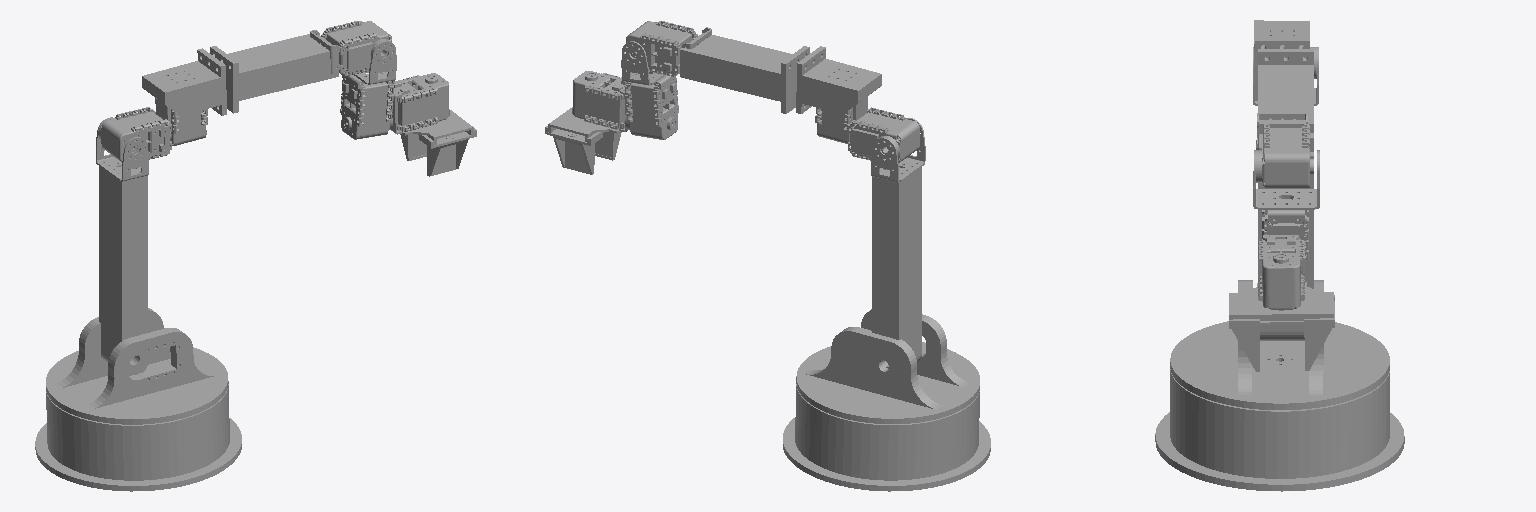
--- Facts derived from the render (not from the file) ---
Views: 3 orthographic renders of the robot side by side, from view 1: azimuth 30°, elevation 25°; view 2: azimuth 150°, elevation 25°; view 3: azimuth 270°, elevation 25°.
Robot: mvp_arm_6dof_v2 — 25 links, 24 joints (7 continuous, 2 prismatic, 15 fixed); root link base_link; default pose: every joint at zero.
Visible links, largest first — view 1: base_link, Shoulder_Joint_1, Arm_Link_1, Forearm_1, Forearm_Joint_1, Servo__2__1, Servo__1__1, Servo__5__1, Servo__3__1, Elbow_Hinge__1__2, Right_Gripper_Finger_1, Servo__4__1 (+2 smaller); view 2: Shoulder_Joint_1, base_link, Arm_Link_1, Forearm_1, Forearm_Joint_1, Servo__2__1, Servo__1__1, Servo__5__1, Servo__3__1, Elbow_Hinge__1__2, Left_Gripper_Finger_1, Servo__4__1 (+3 smaller); view 3: base_link, Shoulder_Joint_1, Forearm_1, Servo__1__1, Servo__3__1, Gripper_Slider_1, Forearm_Joint_1, Wrist_Hinge_1, Arm_Link_1, Left_Gripper_Finger_1, Right_Gripper_Finger_1, Servo__2__1.
Boxes of the visible links, x1,y1,x2,y2 form: base_link: [35, 384, 241, 491]; Shoulder_Joint_1: [46, 308, 228, 424]; Arm_Link_1: [99, 166, 147, 375]; Forearm_1: [210, 34, 338, 113]; Forearm_Joint_1: [142, 48, 226, 115]; Servo__2__1: [340, 80, 393, 139]; Servo__1__1: [394, 73, 449, 131]; Servo__5__1: [101, 107, 171, 161]; Servo__3__1: [321, 21, 391, 76]; Elbow_Hinge__1__2: [96, 117, 148, 181]; Right_Gripper_Finger_1: [419, 128, 476, 176]; Servo__4__1: [155, 98, 207, 145]; Shoulder_Joint_1: [796, 309, 979, 423]; base_link: [783, 384, 990, 491]; Arm_Link_1: [872, 167, 921, 368]; Forearm_1: [680, 33, 809, 113]; Forearm_Joint_1: [796, 46, 881, 113]; Servo__2__1: [624, 74, 678, 139]; Servo__1__1: [572, 71, 625, 129]; Servo__5__1: [848, 107, 919, 162]; Servo__3__1: [626, 21, 697, 76]; Elbow_Hinge__1__2: [871, 118, 925, 182]; Left_Gripper_Finger_1: [545, 126, 602, 174]; Servo__4__1: [815, 96, 867, 143]; base_link: [1155, 369, 1404, 491]; Shoulder_Joint_1: [1170, 280, 1389, 409]; Forearm_1: [1258, 49, 1313, 151]; Servo__1__1: [1258, 237, 1304, 309]; Servo__3__1: [1258, 124, 1313, 187]; Gripper_Slider_1: [1229, 282, 1333, 324]; Forearm_Joint_1: [1254, 20, 1309, 100]; Wrist_Hinge_1: [1253, 150, 1319, 209]; Arm_Link_1: [1258, 174, 1313, 340]; Left_Gripper_Finger_1: [1304, 295, 1334, 370]; Right_Gripper_Finger_1: [1229, 319, 1259, 371]; Servo__2__1: [1262, 199, 1308, 274].
Size in the robot's own frame: 0.3853 by 0.1699 by 0.3379 metres.
25 mesh visuals loaded from 25 distinct referenced files (25 binary STL).

URDF robot description (mvp_arm_6dof_v2):
<?xml version="1.0" encoding="utf-8"?>
<!-- =================================================================================== -->
<!-- |    This document was autogenerated by xacro from mvp_arm_6dof_v2.xacro          | -->
<!-- |    EDITING THIS FILE BY HAND IS NOT RECOMMENDED                                 | -->
<!-- =================================================================================== -->
<robot name="mvp_arm_6dof_v2">
  <material name="silver">
    <color rgba="0.700 0.700 0.700 1.000"/>
  </material>
  <transmission name="Rev7_tran">
    <type>transmission_interface/SimpleTransmission</type>
    <joint name="Rev7">
      <hardwareInterface>hardware_interface/EffortJointInterface</hardwareInterface>
    </joint>
    <actuator name="Rev7_actr">
      <hardwareInterface>hardware_interface/EffortJointInterface</hardwareInterface>
      <mechanicalReduction>1</mechanicalReduction>
    </actuator>
  </transmission>
  <transmission name="Rev6_tran">
    <type>transmission_interface/SimpleTransmission</type>
    <joint name="Rev6">
      <hardwareInterface>hardware_interface/EffortJointInterface</hardwareInterface>
    </joint>
    <actuator name="Rev6_actr">
      <hardwareInterface>hardware_interface/EffortJointInterface</hardwareInterface>
      <mechanicalReduction>1</mechanicalReduction>
    </actuator>
  </transmission>
  <transmission name="Rev5_tran">
    <type>transmission_interface/SimpleTransmission</type>
    <joint name="Rev5">
      <hardwareInterface>hardware_interface/EffortJointInterface</hardwareInterface>
    </joint>
    <actuator name="Rev5_actr">
      <hardwareInterface>hardware_interface/EffortJointInterface</hardwareInterface>
      <mechanicalReduction>1</mechanicalReduction>
    </actuator>
  </transmission>
  <transmission name="Rev4_tran">
    <type>transmission_interface/SimpleTransmission</type>
    <joint name="Rev4">
      <hardwareInterface>hardware_interface/EffortJointInterface</hardwareInterface>
    </joint>
    <actuator name="Rev4_actr">
      <hardwareInterface>hardware_interface/EffortJointInterface</hardwareInterface>
      <mechanicalReduction>1</mechanicalReduction>
    </actuator>
  </transmission>
  <transmission name="Rev3_tran">
    <type>transmission_interface/SimpleTransmission</type>
    <joint name="Rev3">
      <hardwareInterface>hardware_interface/EffortJointInterface</hardwareInterface>
    </joint>
    <actuator name="Rev3_actr">
      <hardwareInterface>hardware_interface/EffortJointInterface</hardwareInterface>
      <mechanicalReduction>1</mechanicalReduction>
    </actuator>
  </transmission>
  <transmission name="Rev2_tran">
    <type>transmission_interface/SimpleTransmission</type>
    <joint name="Rev2">
      <hardwareInterface>hardware_interface/EffortJointInterface</hardwareInterface>
    </joint>
    <actuator name="Rev2_actr">
      <hardwareInterface>hardware_interface/EffortJointInterface</hardwareInterface>
      <mechanicalReduction>1</mechanicalReduction>
    </actuator>
  </transmission>
  <transmission name="Rev1_tran">
    <type>transmission_interface/SimpleTransmission</type>
    <joint name="Rev1">
      <hardwareInterface>hardware_interface/EffortJointInterface</hardwareInterface>
    </joint>
    <actuator name="Rev1_actr">
      <hardwareInterface>hardware_interface/EffortJointInterface</hardwareInterface>
      <mechanicalReduction>1</mechanicalReduction>
    </actuator>
  </transmission>
  <transmission name="Rev8_tran">
    <type>transmission_interface/SimpleTransmission</type>
    <joint name="Rev8">
      <hardwareInterface>hardware_interface/EffortJointInterface</hardwareInterface>
    </joint>
    <actuator name="Rev8_actr">
      <hardwareInterface>hardware_interface/EffortJointInterface</hardwareInterface>
      <mechanicalReduction>1</mechanicalReduction>
    </actuator>
  </transmission>
  <transmission name="Rev9_tran">
    <type>transmission_interface/SimpleTransmission</type>
    <joint name="Rev9">
      <hardwareInterface>hardware_interface/EffortJointInterface</hardwareInterface>
    </joint>
    <actuator name="Rev9_actr">
      <hardwareInterface>hardware_interface/EffortJointInterface</hardwareInterface>
      <mechanicalReduction>1</mechanicalReduction>
    </actuator>
  </transmission>
  <transmission name="Rev10_tran">
    <type>transmission_interface/SimpleTransmission</type>
    <joint name="Rev10">
      <hardwareInterface>hardware_interface/EffortJointInterface</hardwareInterface>
    </joint>
    <actuator name="Rev10_actr">
      <hardwareInterface>hardware_interface/EffortJointInterface</hardwareInterface>
      <mechanicalReduction>1</mechanicalReduction>
    </actuator>
  </transmission>
  <transmission name="Slider1_tran">
    <type>transmission_interface/SimpleTransmission</type>
    <joint name="Slider1">
      <hardwareInterface>hardware_interface/EffortJointInterface</hardwareInterface>
    </joint>
    <actuator name="Slider1_actr">
      <hardwareInterface>hardware_interface/EffortJointInterface</hardwareInterface>
      <mechanicalReduction>1</mechanicalReduction>
    </actuator>
  </transmission>
  <transmission name="Slider2_tran">
    <type>transmission_interface/SimpleTransmission</type>
    <joint name="Slider2">
      <hardwareInterface>hardware_interface/EffortJointInterface</hardwareInterface>
    </joint>
    <actuator name="Slider2_actr">
      <hardwareInterface>hardware_interface/EffortJointInterface</hardwareInterface>
      <mechanicalReduction>1</mechanicalReduction>
    </actuator>
  </transmission>
  <transmission name="Rev11_tran">
    <type>transmission_interface/SimpleTransmission</type>
    <joint name="Rev11">
      <hardwareInterface>hardware_interface/EffortJointInterface</hardwareInterface>
    </joint>
    <actuator name="Rev11_actr">
      <hardwareInterface>hardware_interface/EffortJointInterface</hardwareInterface>
      <mechanicalReduction>1</mechanicalReduction>
    </actuator>
  </transmission>
  <gazebo>
    <plugin filename="libgazebo_ros_control.so" name="control"/>
  </gazebo>
  <gazebo reference="base_link">
    <material>Gazebo/Silver</material>
    <mu1>0.2</mu1>
    <mu2>0.2</mu2>
    <selfCollide>true</selfCollide>
    <gravity>true</gravity>
  </gazebo>
  <gazebo reference="Servo_Rotator__1__1">
    <material>Gazebo/Silver</material>
    <mu1>0.2</mu1>
    <mu2>0.2</mu2>
    <selfCollide>true</selfCollide>
  </gazebo>
  <gazebo reference="Servo_Rotator__2__1">
    <material>Gazebo/Silver</material>
    <mu1>0.2</mu1>
    <mu2>0.2</mu2>
    <selfCollide>true</selfCollide>
  </gazebo>
  <gazebo reference="Servo__3__1">
    <material>Gazebo/Silver</material>
    <mu1>0.2</mu1>
    <mu2>0.2</mu2>
    <selfCollide>true</selfCollide>
  </gazebo>
  <gazebo reference="Servo__2__1">
    <material>Gazebo/Silver</material>
    <mu1>0.2</mu1>
    <mu2>0.2</mu2>
    <selfCollide>true</selfCollide>
  </gazebo>
  <gazebo reference="Servo_Rotator__3__1">
    <material>Gazebo/Silver</material>
    <mu1>0.2</mu1>
    <mu2>0.2</mu2>
    <selfCollide>true</selfCollide>
  </gazebo>
  <gazebo reference="Servo__4__1">
    <material>Gazebo/Silver</material>
    <mu1>0.2</mu1>
    <mu2>0.2</mu2>
    <selfCollide>true</selfCollide>
  </gazebo>
  <gazebo reference="Bracket__3__1">
    <material>Gazebo/Silver</material>
    <mu1>0.2</mu1>
    <mu2>0.2</mu2>
    <selfCollide>true</selfCollide>
  </gazebo>
  <gazebo reference="Servo_Rotator__4__1">
    <material>Gazebo/Silver</material>
    <mu1>0.2</mu1>
    <mu2>0.2</mu2>
    <selfCollide>true</selfCollide>
  </gazebo>
  <gazebo reference="Servo__5__1">
    <material>Gazebo/Silver</material>
    <mu1>0.2</mu1>
    <mu2>0.2</mu2>
    <selfCollide>true</selfCollide>
  </gazebo>
  <gazebo reference="Bracket__5__1">
    <material>Gazebo/Silver</material>
    <mu1>0.2</mu1>
    <mu2>0.2</mu2>
    <selfCollide>true</selfCollide>
  </gazebo>
  <gazebo reference="Forearm_1">
    <material>Gazebo/Silver</material>
    <mu1>0.2</mu1>
    <mu2>0.2</mu2>
    <selfCollide>true</selfCollide>
  </gazebo>
  <gazebo reference="Forearm_Joint_1">
    <material>Gazebo/Silver</material>
    <mu1>0.2</mu1>
    <mu2>0.2</mu2>
    <selfCollide>true</selfCollide>
  </gazebo>
  <gazebo reference="Servo_Rotator__5__1">
    <material>Gazebo/Silver</material>
    <mu1>0.2</mu1>
    <mu2>0.2</mu2>
    <selfCollide>true</selfCollide>
  </gazebo>
  <gazebo reference="Elbow_Hinge__1__2">
    <material>Gazebo/Silver</material>
    <mu1>0.2</mu1>
    <mu2>0.2</mu2>
    <selfCollide>true</selfCollide>
  </gazebo>
  <gazebo reference="Arm_Link_1">
    <material>Gazebo/Silver</material>
    <mu1>0.2</mu1>
    <mu2>0.2</mu2>
    <selfCollide>true</selfCollide>
  </gazebo>
  <gazebo reference="Shoulder_Joint_1">
    <material>Gazebo/Silver</material>
    <mu1>0.2</mu1>
    <mu2>0.2</mu2>
    <selfCollide>true</selfCollide>
  </gazebo>
  <gazebo reference="Wrist_Hinge_1">
    <material>Gazebo/Silver</material>
    <mu1>0.2</mu1>
    <mu2>0.2</mu2>
    <selfCollide>true</selfCollide>
  </gazebo>
  <gazebo reference="Bracket__1__1">
    <material>Gazebo/Silver</material>
    <mu1>0.2</mu1>
    <mu2>0.2</mu2>
    <selfCollide>true</selfCollide>
  </gazebo>
  <gazebo reference="Servo__1__1">
    <material>Gazebo/Silver</material>
    <mu1>0.2</mu1>
    <mu2>0.2</mu2>
    <selfCollide>true</selfCollide>
  </gazebo>
  <gazebo reference="Bracket__4__1">
    <material>Gazebo/Silver</material>
    <mu1>0.2</mu1>
    <mu2>0.2</mu2>
    <selfCollide>true</selfCollide>
  </gazebo>
  <gazebo reference="Bracket__2__1">
    <material>Gazebo/Silver</material>
    <mu1>0.2</mu1>
    <mu2>0.2</mu2>
    <selfCollide>true</selfCollide>
  </gazebo>
  <gazebo reference="Gripper_Slider_1">
    <material>Gazebo/Silver</material>
    <mu1>0.2</mu1>
    <mu2>0.2</mu2>
    <selfCollide>true</selfCollide>
  </gazebo>
  <gazebo reference="Left_Servo_Finger_Connector_1">
    <material>Gazebo/Silver</material>
    <mu1>0.2</mu1>
    <mu2>0.2</mu2>
    <selfCollide>true</selfCollide>
  </gazebo>
  <gazebo reference="Right_Servo_Finger_Connector_1">
    <material>Gazebo/Silver</material>
    <mu1>0.2</mu1>
    <mu2>0.2</mu2>
    <selfCollide>true</selfCollide>
  </gazebo>
  <gazebo reference="Right_Gripper_Finger_1">
    <material>Gazebo/Silver</material>
    <mu1>0.2</mu1>
    <mu2>0.2</mu2>
    <selfCollide>true</selfCollide>
  </gazebo>
  <gazebo reference="Right_Gripper_Finger_1">
    <material>Gazebo/Silver</material>
    <mu1>0.2</mu1>
    <mu2>0.2</mu2>
    <selfCollide>true</selfCollide>
  </gazebo>
  <gazebo reference="Left_Gripper_Finger_1">
    <material>Gazebo/Silver</material>
    <mu1>0.2</mu1>
    <mu2>0.2</mu2>
    <selfCollide>true</selfCollide>
  </gazebo>
  <gazebo reference="Left_Gripper_Finger_1">
    <material>Gazebo/Silver</material>
    <mu1>0.2</mu1>
    <mu2>0.2</mu2>
    <selfCollide>true</selfCollide>
  </gazebo>
  <link name="base_link">
    <inertial>
      <origin rpy="0 0 0" xyz="-0.0002685563857322659 -0.004117383840236073 0.09720599739360383"/>
      <mass value="0.2255222028913783"/>
      <inertia ixx="0.000625" ixy="-0.0" ixz="-1.3e-05" iyy="0.000615" iyz="0.0" izz="0.001121"/>
    </inertial>
    <visual>
      <origin rpy="0 0 0" xyz="0 0 0"/>
      <geometry>
        <mesh filename="package://mvp_arm_6dof_v2_description/meshes/base_link.stl" scale="0.001 0.001 0.001"/>
      </geometry>
      <material name="silver"/>
    </visual>
    <collision>
      <origin rpy="0 0 0" xyz="0 0 0"/>
      <geometry>
        <mesh filename="package://mvp_arm_6dof_v2_description/meshes/base_link.stl" scale="0.001 0.001 0.001"/>
      </geometry>
    </collision>
  </link>
  <link name="Servo_Rotator__1__1">
    <inertial>
      <origin rpy="0 0 0" xyz="4.696790787805938e-05 2.736599626973436e-05 -0.0022484802383110902"/>
      <mass value="0.012286224598738087"/>
      <inertia ixx="0.0" ixy="0.0" ixz="-0.0" iyy="0.0" iyz="-0.0" izz="1e-06"/>
    </inertial>
    <visual>
      <origin rpy="0 0 0" xyz="-0.278678 0.002272 -0.30869"/>
      <geometry>
        <mesh filename="package://mvp_arm_6dof_v2_description/meshes/Servo_Rotator__1__1.stl" scale="0.001 0.001 0.001"/>
      </geometry>
      <material name="silver"/>
    </visual>
    <collision>
      <origin rpy="0 0 0" xyz="-0.278678 0.002272 -0.30869"/>
      <geometry>
        <mesh filename="package://mvp_arm_6dof_v2_description/meshes/Servo_Rotator__1__1.stl" scale="0.001 0.001 0.001"/>
      </geometry>
    </collision>
  </link>
  <link name="Servo_Rotator__2__1">
    <inertial>
      <origin rpy="0 0 0" xyz="3.197445282709932e-07 -0.002249396881839328 1.0236701699029016e-05"/>
      <mass value="0.012286224598738087"/>
      <inertia ixx="0.0" ixy="-0.0" ixz="0.0" iyy="1e-06" iyz="-0.0" izz="0.0"/>
    </inertial>
    <visual>
      <origin rpy="0 0 0" xyz="-0.214785 0.018149 -0.391636"/>
      <geometry>
        <mesh filename="package://mvp_arm_6dof_v2_description/meshes/Servo_Rotator__2__1.stl" scale="0.001 0.001 0.001"/>
      </geometry>
      <material name="silver"/>
    </visual>
    <collision>
      <origin rpy="0 0 0" xyz="-0.214785 0.018149 -0.391636"/>
      <geometry>
        <mesh filename="package://mvp_arm_6dof_v2_description/meshes/Servo_Rotator__2__1.stl" scale="0.001 0.001 0.001"/>
      </geometry>
    </collision>
  </link>
  <link name="Servo__3__1">
    <inertial>
      <origin rpy="0 0 0" xyz="0.023084439447248556 0.01543302398482891 -0.007466520807867916"/>
      <mass value="0.32411536495008075"/>
      <inertia ixx="5e-05" ixy="-2e-06" ixz="-1e-06" iyy="7.9e-05" iyz="0.0" izz="9.1e-05"/>
    </inertial>
    <visual>
      <origin rpy="0 0 0" xyz="-0.178587 0.017871 -0.398684"/>
      <geometry>
        <mesh filename="package://mvp_arm_6dof_v2_description/meshes/Servo__3__1.stl" scale="0.001 0.001 0.001"/>
      </geometry>
      <material name="silver"/>
    </visual>
    <collision>
      <origin rpy="0 0 0" xyz="-0.178587 0.017871 -0.398684"/>
      <geometry>
        <mesh filename="package://mvp_arm_6dof_v2_description/meshes/Servo__3__1.stl" scale="0.001 0.001 0.001"/>
      </geometry>
    </collision>
  </link>
  <link name="Servo__2__1">
    <inertial>
      <origin rpy="0 0 0" xyz="-0.01645020938837613 -0.008616049568100454 -0.0196927644624752"/>
      <mass value="0.32411536495008075"/>
      <inertia ixx="7.9e-05" ixy="0.0" ixz="-1e-06" iyy="9.1e-05" iyz="-0.0" izz="5e-05"/>
    </inertial>
    <visual>
      <origin rpy="0 0 0" xyz="-0.232814 -0.00619 -0.356393"/>
      <geometry>
        <mesh filename="package://mvp_arm_6dof_v2_description/meshes/Servo__2__1.stl" scale="0.001 0.001 0.001"/>
      </geometry>
      <material name="silver"/>
    </visual>
    <collision>
      <origin rpy="0 0 0" xyz="-0.232814 -0.00619 -0.356393"/>
      <geometry>
        <mesh filename="package://mvp_arm_6dof_v2_description/meshes/Servo__2__1.stl" scale="0.001 0.001 0.001"/>
      </geometry>
    </collision>
  </link>
  <link name="Servo_Rotator__3__1">
    <inertial>
      <origin rpy="0 0 0" xyz="0.002249048184267688 1.7890290807034276e-07 4.676532271863376e-05"/>
      <mass value="0.012286224598738087"/>
      <inertia ixx="1e-06" ixy="0.0" ixz="0.0" iyy="0.0" iyz="0.0" izz="0.0"/>
    </inertial>
    <visual>
      <origin rpy="0 0 0" xyz="-0.232349 0.002482 -0.323916"/>
      <geometry>
        <mesh filename="package://mvp_arm_6dof_v2_description/meshes/Servo_Rotator__3__1.stl" scale="0.001 0.001 0.001"/>
      </geometry>
      <material name="silver"/>
    </visual>
    <collision>
      <origin rpy="0 0 0" xyz="-0.232349 0.002482 -0.323916"/>
      <geometry>
        <mesh filename="package://mvp_arm_6dof_v2_description/meshes/Servo_Rotator__3__1.stl" scale="0.001 0.001 0.001"/>
      </geometry>
    </collision>
  </link>
  <link name="Servo__4__1">
    <inertial>
      <origin rpy="0 0 0" xyz="0.015363533740432825 3.599470012234868e-05 0.01352566905944469"/>
      <mass value="0.32411536495008075"/>
      <inertia ixx="7.9e-05" ixy="0.0" ixz="2e-06" iyy="9.1e-05" iyz="-0.0" izz="5e-05"/>
    </inertial>
    <visual>
      <origin rpy="0 0 0" xyz="-0.025942 0.002022 -0.354577"/>
      <geometry>
        <mesh filename="package://mvp_arm_6dof_v2_description/meshes/Servo__4__1.stl" scale="0.001 0.001 0.001"/>
      </geometry>
      <material name="silver"/>
    </visual>
    <collision>
      <origin rpy="0 0 0" xyz="-0.025942 0.002022 -0.354577"/>
      <geometry>
        <mesh filename="package://mvp_arm_6dof_v2_description/meshes/Servo__4__1.stl" scale="0.001 0.001 0.001"/>
      </geometry>
    </collision>
  </link>
  <link name="Bracket__3__1">
    <inertial>
      <origin rpy="0 0 0" xyz="0.01589864118251931 -0.007987181894295325 0.004097782701024066"/>
      <mass value="0.0016262220015435807"/>
      <inertia ixx="0.0" ixy="-0.0" ixz="-0.0" iyy="0.0" iyz="0.0" izz="0.0"/>
    </inertial>
    <visual>
      <origin rpy="0 0 0" xyz="-0.025243 -0.006064 -0.390552"/>
      <geometry>
        <mesh filename="package://mvp_arm_6dof_v2_description/meshes/Bracket__3__1.stl" scale="0.001 0.001 0.001"/>
      </geometry>
      <material name="silver"/>
    </visual>
    <collision>
      <origin rpy="0 0 0" xyz="-0.025243 -0.006064 -0.390552"/>
      <geometry>
        <mesh filename="package://mvp_arm_6dof_v2_description/meshes/Bracket__3__1.stl" scale="0.001 0.001 0.001"/>
      </geometry>
    </collision>
  </link>
  <link name="Servo_Rotator__4__1">
    <inertial>
      <origin rpy="0 0 0" xyz="0.0020392727454433754 1.9599116875569037e-05 0.008056069500829488"/>
      <mass value="0.012286224598738087"/>
      <inertia ixx="1e-06" ixy="0.0" ixz="0.0" iyy="0.0" iyz="0.0" izz="0.0"/>
    </inertial>
    <visual>
      <origin rpy="0 0 0" xyz="-0.021654 0.002042 -0.346462"/>
      <geometry>
        <mesh filename="package://mvp_arm_6dof_v2_description/meshes/Servo_Rotator__4__1.stl" scale="0.001 0.001 0.001"/>
      </geometry>
      <material name="silver"/>
    </visual>
    <collision>
      <origin rpy="0 0 0" xyz="-0.021654 0.002042 -0.346462"/>
      <geometry>
        <mesh filename="package://mvp_arm_6dof_v2_description/meshes/Servo_Rotator__4__1.stl" scale="0.001 0.001 0.001"/>
      </geometry>
    </collision>
  </link>
  <link name="Servo__5__1">
    <inertial>
      <origin rpy="0 0 0" xyz="0.013114397820069863 -0.015711494309324826 0.0003817734354029101"/>
      <mass value="0.32411536495008075"/>
      <inertia ixx="5e-05" ixy="-2e-06" ixz="-1e-06" iyy="7.9e-05" iyz="-0.0" izz="9.1e-05"/>
    </inertial>
    <visual>
      <origin rpy="0 0 0" xyz="0.020045 -0.01416 -0.353328"/>
      <geometry>
        <mesh filename="package://mvp_arm_6dof_v2_description/meshes/Servo__5__1.stl" scale="0.001 0.001 0.001"/>
      </geometry>
      <material name="silver"/>
    </visual>
    <collision>
      <origin rpy="0 0 0" xyz="0.020045 -0.01416 -0.353328"/>
      <geometry>
        <mesh filename="package://mvp_arm_6dof_v2_description/meshes/Servo__5__1.stl" scale="0.001 0.001 0.001"/>
      </geometry>
    </collision>
  </link>
  <link name="Bracket__5__1">
    <inertial>
      <origin rpy="0 0 0" xyz="0.00344356718978997 0.01601961665031654 0.008055349340560902"/>
      <mass value="0.0016262220015435807"/>
      <inertia ixx="0.0" ixy="0.0" ixz="0.0" iyy="0.0" iyz="0.0" izz="0.0"/>
    </inertial>
    <visual>
      <origin rpy="0 0 0" xyz="-0.016159 0.018043 -0.346355"/>
      <geometry>
        <mesh filename="package://mvp_arm_6dof_v2_description/meshes/Bracket__5__1.stl" scale="0.001 0.001 0.001"/>
      </geometry>
      <material name="silver"/>
    </visual>
    <collision>
      <origin rpy="0 0 0" xyz="-0.016159 0.018043 -0.346355"/>
      <geometry>
        <mesh filename="package://mvp_arm_6dof_v2_description/meshes/Bracket__5__1.stl" scale="0.001 0.001 0.001"/>
      </geometry>
    </collision>
  </link>
  <link name="Forearm_1">
    <inertial>
      <origin rpy="0 0 0" xyz="0.04811303961108866 1.1598853245149265e-05 0.0012336044389075207"/>
      <mass value="0.7719250888938243"/>
      <inertia ixx="0.000141" ixy="-0.0" ixz="-1.8e-05" iyy="0.000726" iyz="0.0" izz="0.000771"/>
    </inertial>
    <visual>
      <origin rpy="0 0 0" xyz="-0.073332 0.001934 -0.387836"/>
      <geometry>
        <mesh filename="package://mvp_arm_6dof_v2_description/meshes/Forearm_1.stl" scale="0.001 0.001 0.001"/>
      </geometry>
      <material name="silver"/>
    </visual>
    <collision>
      <origin rpy="0 0 0" xyz="-0.073332 0.001934 -0.387836"/>
      <geometry>
        <mesh filename="package://mvp_arm_6dof_v2_description/meshes/Forearm_1.stl" scale="0.001 0.001 0.001"/>
      </geometry>
    </collision>
  </link>
  <link name="Forearm_Joint_1">
    <inertial>
      <origin rpy="0 0 0" xyz="0.019749225031501748 -1.369065446798763e-05 -0.007300482312114054"/>
      <mass value="0.24639014270019174"/>
      <inertia ixx="6e-05" ixy="0.0" ixz="7e-06" iyy="9.9e-05" iyz="0.0" izz="0.000118"/>
    </inertial>
    <visual>
      <origin rpy="0 0 0" xyz="-0.033096 0.001921 -0.39628"/>
      <geometry>
        <mesh filename="package://mvp_arm_6dof_v2_description/meshes/Forearm_Joint_1.stl" scale="0.001 0.001 0.001"/>
      </geometry>
      <material name="silver"/>
    </visual>
    <collision>
      <origin rpy="0 0 0" xyz="-0.033096 0.001921 -0.39628"/>
      <geometry>
        <mesh filename="package://mvp_arm_6dof_v2_description/meshes/Forearm_Joint_1.stl" scale="0.001 0.001 0.001"/>
      </geometry>
    </collision>
  </link>
  <link name="Servo_Rotator__5__1">
    <inertial>
      <origin rpy="0 0 0" xyz="0.00799743271970977 -0.002248929390793089 0.00021621004086314066"/>
      <mass value="0.012286224598738087"/>
      <inertia ixx="0.0" ixy="-0.0" ixz="0.0" iyy="1e-06" iyz="-0.0" izz="0.0"/>
    </inertial>
    <visual>
      <origin rpy="0 0 0" xyz="0.028043 -0.018658 -0.353106"/>
      <geometry>
        <mesh filename="package://mvp_arm_6dof_v2_description/meshes/Servo_Rotator__5__1.stl" scale="0.001 0.001 0.001"/>
      </geometry>
      <material name="silver"/>
    </visual>
    <collision>
      <origin rpy="0 0 0" xyz="0.028043 -0.018658 -0.353106"/>
      <geometry>
        <mesh filename="package://mvp_arm_6dof_v2_description/meshes/Servo_Rotator__5__1.stl" scale="0.001 0.001 0.001"/>
      </geometry>
    </collision>
  </link>
  <link name="Elbow_Hinge__1__2">
    <inertial>
      <origin rpy="0 0 0" xyz="-0.013766752878679976 2.1515676582339795e-05 0.009886535758384607"/>
      <mass value="0.0037556666472927302"/>
      <inertia ixx="2e-06" ixy="0.0" ixz="0.0" iyy="1e-06" iyz="0.0" izz="1e-06"/>
    </inertial>
    <visual>
      <origin rpy="0 0 0" xyz="0.005849 0.0024 -0.327232"/>
      <geometry>
        <mesh filename="package://mvp_arm_6dof_v2_description/meshes/Elbow_Hinge__1__2.stl" scale="0.001 0.001 0.001"/>
      </geometry>
      <material name="silver"/>
    </visual>
    <collision>
      <origin rpy="0 0 0" xyz="0.005849 0.0024 -0.327232"/>
      <geometry>
        <mesh filename="package://mvp_arm_6dof_v2_description/meshes/Elbow_Hinge__1__2.stl" scale="0.001 0.001 0.001"/>
      </geometry>
    </collision>
  </link>
  <link name="Arm_Link_1">
    <inertial>
      <origin rpy="0 0 0" xyz="-0.002023573058774996 -0.01881587365277383 0.07708599083440679"/>
      <mass value="0.21427857804003209"/>
      <inertia ixx="0.00058" ixy="0.0" ixz="1.4e-05" iyy="0.000565" iyz="-1e-06" izz="3.7e-05"/>
    </inertial>
    <visual>
      <origin rpy="0 0 0" xyz="0.014005 -0.016203 -0.161915"/>
      <geometry>
        <mesh filename="package://mvp_arm_6dof_v2_description/meshes/Arm_Link_1.stl" scale="0.001 0.001 0.001"/>
      </geometry>
      <material name="silver"/>
    </visual>
    <collision>
      <origin rpy="0 0 0" xyz="0.014005 -0.016203 -0.161915"/>
      <geometry>
        <mesh filename="package://mvp_arm_6dof_v2_description/meshes/Arm_Link_1.stl" scale="0.001 0.001 0.001"/>
      </geometry>
    </collision>
  </link>
  <link name="Shoulder_Joint_1">
    <inertial>
      <origin rpy="0 0 0" xyz="-0.0002783520807599555 0.001716966723272633 0.013009417733686551"/>
      <mass value="0.1980303324276481"/>
      <inertia ixx="0.00026" ixy="-0.0" ixz="-5e-06" iyy="0.000259" iyz="-5e-06" izz="0.00042"/>
    </inertial>
    <visual>
      <origin rpy="0 0 0" xyz="0.001172 0.00337 -0.130745"/>
      <geometry>
        <mesh filename="package://mvp_arm_6dof_v2_description/meshes/Shoulder_Joint_1.stl" scale="0.001 0.001 0.001"/>
      </geometry>
      <material name="silver"/>
    </visual>
    <collision>
      <origin rpy="0 0 0" xyz="0.001172 0.00337 -0.130745"/>
      <geometry>
        <mesh filename="package://mvp_arm_6dof_v2_description/meshes/Shoulder_Joint_1.stl" scale="0.001 0.001 0.001"/>
      </geometry>
    </collision>
  </link>
  <link name="Wrist_Hinge_1">
    <inertial>
      <origin rpy="0 0 0" xyz="0.0001687834064507121 0.020961349127553694 -0.008348654777393216"/>
      <mass value="0.0037556666472927302"/>
      <inertia ixx="2e-06" ixy="0.0" ixz="0.0" iyy="1e-06" iyz="0.0" izz="1e-06"/>
    </inertial>
    <visual>
      <origin rpy="0 0 0" xyz="-0.214953 0.022686 -0.383658"/>
      <geometry>
        <mesh filename="package://mvp_arm_6dof_v2_description/meshes/Wrist_Hinge_1.stl" scale="0.001 0.001 0.001"/>
      </geometry>
      <material name="silver"/>
    </visual>
    <collision>
      <origin rpy="0 0 0" xyz="-0.214953 0.022686 -0.383658"/>
      <geometry>
        <mesh filename="package://mvp_arm_6dof_v2_description/meshes/Wrist_Hinge_1.stl" scale="0.001 0.001 0.001"/>
      </geometry>
    </collision>
  </link>
  <link name="Bracket__1__1">
    <inertial>
      <origin rpy="0 0 0" xyz="0.0016732761117350947 -9.794040194281229e-05 0.008036379638807933"/>
      <mass value="0.0016262220015435807"/>
      <inertia ixx="0.0" ixy="-0.0" ixz="0.0" iyy="0.0" iyz="0.0" izz="0.0"/>
    </inertial>
    <visual>
      <origin rpy="0 0 0" xyz="-0.237016 0.002383 -0.316012"/>
      <geometry>
        <mesh filename="package://mvp_arm_6dof_v2_description/meshes/Bracket__1__1.stl" scale="0.001 0.001 0.001"/>
      </geometry>
      <material name="silver"/>
    </visual>
    <collision>
      <origin rpy="0 0 0" xyz="-0.237016 0.002383 -0.316012"/>
      <geometry>
        <mesh filename="package://mvp_arm_6dof_v2_description/meshes/Bracket__1__1.stl" scale="0.001 0.001 0.001"/>
      </geometry>
    </collision>
  </link>
  <link name="Servo__1__1">
    <inertial>
      <origin rpy="0 0 0" xyz="0.023226772127093703 -0.007790584361720188 -0.016092423843160952"/>
      <mass value="0.32411536495008075"/>
      <inertia ixx="5e-05" ixy="0.0" ixz="-2e-06" iyy="9.1e-05" iyz="0.0" izz="7.9e-05"/>
    </inertial>
    <visual>
      <origin rpy="0 0 0" xyz="-0.242009 -0.005322 -0.340218"/>
      <geometry>
        <mesh filename="package://mvp_arm_6dof_v2_description/meshes/Servo__1__1.stl" scale="0.001 0.001 0.001"/>
      </geometry>
      <material name="silver"/>
    </visual>
    <collision>
      <origin rpy="0 0 0" xyz="-0.242009 -0.005322 -0.340218"/>
      <geometry>
        <mesh filename="package://mvp_arm_6dof_v2_description/meshes/Servo__1__1.stl" scale="0.001 0.001 0.001"/>
      </geometry>
    </collision>
  </link>
  <link name="Bracket__4__1">
    <inertial>
      <origin rpy="0 0 0" xyz="-0.007959256120512181 -1.0287947060996566e-05 -0.002008019445163489"/>
      <mass value="0.0016262220015435807"/>
      <inertia ixx="0.0" ixy="-0.0" ixz="-0.0" iyy="0.0" iyz="0.0" izz="0.0"/>
    </inertial>
    <visual>
      <origin rpy="0 0 0" xyz="-0.223335 0.00177 -0.365233"/>
      <geometry>
        <mesh filename="package://mvp_arm_6dof_v2_description/meshes/Bracket__4__1.stl" scale="0.001 0.001 0.001"/>
      </geometry>
      <material name="silver"/>
    </visual>
    <collision>
      <origin rpy="0 0 0" xyz="-0.223335 0.00177 -0.365233"/>
      <geometry>
        <mesh filename="package://mvp_arm_6dof_v2_description/meshes/Bracket__4__1.stl" scale="0.001 0.001 0.001"/>
      </geometry>
    </collision>
  </link>
  <link name="Bracket__2__1">
    <inertial>
      <origin rpy="0 0 0" xyz="0.0021702523840013976 -5.735108448202508e-05 -0.012446942249239479"/>
      <mass value="0.0016262220015435807"/>
      <inertia ixx="0.0" ixy="0.0" ixz="0.0" iyy="0.0" iyz="0.0" izz="0.0"/>
    </inertial>
    <visual>
      <origin rpy="0 0 0" xyz="-0.172968 0.001852 -0.402964"/>
      <geometry>
        <mesh filename="package://mvp_arm_6dof_v2_description/meshes/Bracket__2__1.stl" scale="0.001 0.001 0.001"/>
      </geometry>
      <material name="silver"/>
    </visual>
    <collision>
      <origin rpy="0 0 0" xyz="-0.172968 0.001852 -0.402964"/>
      <geometry>
        <mesh filename="package://mvp_arm_6dof_v2_description/meshes/Bracket__2__1.stl" scale="0.001 0.001 0.001"/>
      </geometry>
    </collision>
  </link>
  <link name="Gripper_Slider_1">
    <inertial>
      <origin rpy="0 0 0" xyz="0.029607737023973846 0.013304628840371863 -0.0014577479840566787"/>
      <mass value="0.006653616089325752"/>
      <inertia ixx="3e-06" ixy="0.0" ixz="-0.0" iyy="2e-06" iyz="-0.0" izz="5e-06"/>
    </inertial>
    <visual>
      <origin rpy="0 0 0" xyz="-0.247936 0.015781 -0.30813"/>
      <geometry>
        <mesh filename="package://mvp_arm_6dof_v2_description/meshes/Gripper_Slider_1.stl" scale="0.001 0.001 0.001"/>
      </geometry>
      <material name="silver"/>
    </visual>
    <collision>
      <origin rpy="0 0 0" xyz="-0.247936 0.015781 -0.30813"/>
      <geometry>
        <mesh filename="package://mvp_arm_6dof_v2_description/meshes/Gripper_Slider_1.stl" scale="0.001 0.001 0.001"/>
      </geometry>
    </collision>
  </link>
  <!-- <link name="Left_Servo_Finger_Connector_1">
  <inertial>
    <origin rpy="0 0 0" xyz="0.0001409165693066483 0.010442814922828104 -0.0009679780292277673"/>
    <mass value="0.0017321558106604333"/>
    <inertia ixx="0.0" ixy="-0.0" ixz="-0.0" iyy="0.0" iyz="-0.0" izz="0.0"/>
  </inertial>
  <visual>
    <origin rpy="0 0 0" xyz="-0.278517 -0.005779 -0.304252"/>
    <geometry>
      <mesh filename="package://mvp_arm_6dof_v2_description/meshes/Left_Servo_Finger_Connector_1.stl" scale="0.001 0.001 0.001"/>
    </geometry>
    <material name="silver"/>
  </visual>
  <collision>
    <origin rpy="0 0 0" xyz="-0.278517 -0.005779 -0.304252"/>
    <geometry>
      <mesh filename="package://mvp_arm_6dof_v2_description/meshes/Left_Servo_Finger_Connector_1.stl" scale="0.001 0.001 0.001"/>
    </geometry>
  </collision>
</link>

<link name="Right_Servo_Finger_Connector_1">
  <inertial>
    <origin rpy="0 0 0" xyz="-0.00010094571347429859 -0.010400537016847079 -0.0012314094427017253"/>
    <mass value="0.0017321558106604333"/>
    <inertia ixx="0.0" ixy="0.0" ixz="-0.0" iyy="0.0" iyz="-0.0" izz="0.0"/>
  </inertial>
  <visual>
    <origin rpy="0 0 0" xyz="-0.279028 0.010212 -0.304066"/>
    <geometry>
      <mesh filename="package://mvp_arm_6dof_v2_description/meshes/Right_Servo_Finger_Connector_1.stl" scale="0.001 0.001 0.001"/>
    </geometry>
    <material name="silver"/>
  </visual>
  <collision>
    <origin rpy="0 0 0" xyz="-0.279028 0.010212 -0.304066"/>
    <geometry>
      <mesh filename="package://mvp_arm_6dof_v2_description/meshes/Right_Servo_Finger_Connector_1.stl" scale="0.001 0.001 0.001"/>
    </geometry>
  </collision>
</link> -->
  <link name="Right_Gripper_Finger_1">
    <inertial>
      <origin rpy="0 0 0" xyz="-0.019770206172384563 0.013486368095181816 -0.01214469345139918"/>
      <mass value="0.00839361387509603"/>
      <inertia ixx="1e-06" ixy="-0.0" ixz="-0.0" iyy="2e-06" iyz="0.0" izz="1e-06"/>
    </inertial>
    <visual>
      <origin rpy="0 0 0" xyz="-0.299019 0.03819 -0.30253"/>
      <geometry>
        <mesh filename="package://mvp_arm_6dof_v2_description/meshes/Right_Gripper_Finger_1.stl" scale="0.001 0.001 0.001"/>
      </geometry>
      <material name="silver"/>
    </visual>
    <collision>
      <origin rpy="0 0 0" xyz="-0.299019 0.03819 -0.30253"/>
      <geometry>
        <mesh filename="package://mvp_arm_6dof_v2_description/meshes/Right_Gripper_Finger_1.stl" scale="0.001 0.001 0.001"/>
      </geometry>
    </collision>
  </link>
  <link name="Left_Gripper_Finger_1">
    <inertial>
      <origin rpy="0 0 0" xyz="0.00023833865276129407 -0.00604606763680195 -0.0113424483965332"/>
      <mass value="0.008393613874943608"/>
      <inertia ixx="1e-06" ixy="0.0" ixz="-0.0" iyy="2e-06" iyz="-0.0" izz="1e-06"/>
    </inertial>
    <visual>
      <origin rpy="0 0 0" xyz="-0.278989 -0.026646 -0.302287"/>
      <geometry>
        <mesh filename="package://mvp_arm_6dof_v2_description/meshes/Left_Gripper_Finger_1.stl" scale="0.001 0.001 0.001"/>
      </geometry>
      <material name="silver"/>
    </visual>
    <collision>
      <origin rpy="0 0 0" xyz="-0.278989 -0.026646 -0.302287"/>
      <geometry>
        <mesh filename="package://mvp_arm_6dof_v2_description/meshes/Left_Gripper_Finger_1.stl" scale="0.001 0.001 0.001"/>
      </geometry>
    </collision>
  </link>
  <joint name="Rev7" type="continuous">
    <origin rpy="0 0 0" xyz="0.036669 -0.007594 -0.031528"/>
    <parent link="Servo__1__1"/>
    <child link="Servo_Rotator__1__1"/>
    <axis xyz="0.020917 0.012351 -0.999705"/>
  </joint>
  <joint name="Rev6" type="continuous">
    <origin rpy="0 0 0" xyz="0.036198 -0.000278 -0.007048"/>
    <parent link="Servo__3__1"/>
    <child link="Servo_Rotator__2__1"/>
    <axis xyz="-0.000119 0.999989 -0.004607"/>
  </joint>
  <joint name="Rigid4" type="fixed">
    <origin rpy="0 0 0" xyz="0.005619 -0.016019 -0.00428"/>
    <parent link="Bracket__2__1"/>
    <child link="Servo__3__1"/>
  </joint>
  <joint name="Rigid5" type="fixed">
    <origin rpy="0 0 0" xyz="0.009479 0.00796 -0.00884"/>
    <parent link="Bracket__4__1"/>
    <child link="Servo__2__1"/>
  </joint>
  <joint name="Rev5" type="continuous">
    <origin rpy="0 0 0" xyz="-0.000465 -0.008672 -0.032477"/>
    <parent link="Servo__2__1"/>
    <child link="Servo_Rotator__3__1"/>
    <axis xyz="0.999781 0.000215 0.020922"/>
  </joint>
  <joint name="Rev4" type="continuous">
    <origin rpy="0 0 0" xyz="0.004288 2e-05 0.008115"/>
    <parent link="Servo_Rotator__4__1"/>
    <child link="Servo__4__1"/>
    <axis xyz="0.999653 0.00024 0.026324"/>
  </joint>
  <joint name="Rigid7" type="fixed">
    <origin rpy="0 0 0" xyz="-0.000699 0.008086 0.035975"/>
    <parent link="Servo__4__1"/>
    <child link="Bracket__3__1"/>
  </joint>
  <joint name="Rigid8" type="fixed">
    <origin rpy="0 0 0" xyz="0.005495 0.016001 0.000107"/>
    <parent link="Bracket__5__1"/>
    <child link="Servo_Rotator__4__1"/>
  </joint>
  <joint name="Rev3" type="continuous">
    <origin rpy="0 0 0" xyz="0.007998 -0.004498 0.000222"/>
    <parent link="Servo_Rotator__5__1"/>
    <child link="Servo__5__1"/>
    <axis xyz="0.000177 -0.999997 0.002395"/>
  </joint>
  <joint name="Rigid9" type="fixed">
    <origin rpy="0 0 0" xyz="0.036204 -0.032203 -0.006973"/>
    <parent link="Servo__5__1"/>
    <child link="Bracket__5__1"/>
  </joint>
  <joint name="Rigid11" type="fixed">
    <origin rpy="0 0 0" xyz="0.040236 -1.3e-05 -0.008444"/>
    <parent link="Forearm_Joint_1"/>
    <child link="Forearm_1"/>
  </joint>
  <joint name="Rigid13" type="fixed">
    <origin rpy="0 0 0" xyz="0.007853 -0.007985 0.005728"/>
    <parent link="Bracket__3__1"/>
    <child link="Forearm_Joint_1"/>
  </joint>
  <joint name="Rigid14" type="fixed">
    <origin rpy="0 0 0" xyz="-0.022194 0.021058 0.025874"/>
    <parent link="Elbow_Hinge__1__2"/>
    <child link="Servo_Rotator__5__1"/>
  </joint>
  <joint name="Rigid15" type="fixed">
    <origin rpy="0 0 0" xyz="0.008156 -0.018603 0.165317"/>
    <parent link="Arm_Link_1"/>
    <child link="Elbow_Hinge__1__2"/>
  </joint>
  <joint name="Rev2" type="continuous">
    <origin rpy="0 0 0" xyz="-0.012833 0.019573 0.03117"/>
    <parent link="Shoulder_Joint_1"/>
    <child link="Arm_Link_1"/>
    <axis xyz="-0.000177 0.999997 -0.002395"/>
  </joint>
  <joint name="Rev1" type="continuous">
    <origin rpy="0 0 0" xyz="-0.001172 -0.00337 0.130745"/>
    <parent link="base_link"/>
    <child link="Shoulder_Joint_1"/>
    <axis xyz="0.026933 -0.00239 -0.999634"/>
  </joint>
  <joint name="Rigid16" type="fixed">
    <origin rpy="0 0 0" xyz="0.000168 -0.004537 -0.007978"/>
    <parent link="Servo_Rotator__2__1"/>
    <child link="Wrist_Hinge_1"/>
  </joint>
  <joint name="Rigid70" type="fixed">
    <origin rpy="0 0 0" xyz="0.004667 9.9e-05 -0.007904"/>
    <parent link="Servo_Rotator__3__1"/>
    <child link="Bracket__1__1"/>
  </joint>
  <joint name="Rigid71" type="fixed">
    <origin rpy="0 0 0" xyz="0.004993 0.007705 0.024206"/>
    <parent link="Bracket__1__1"/>
    <child link="Servo__1__1"/>
  </joint>
  <joint name="Rigid72" type="fixed">
    <origin rpy="0 0 0" xyz="0.008382 0.020916 -0.018425"/>
    <parent link="Wrist_Hinge_1"/>
    <child link="Bracket__4__1"/>
  </joint>
  <joint name="Rigid74" type="fixed">
    <origin rpy="0 0 0" xyz="0.099636 8.2e-05 0.015128"/>
    <parent link="Forearm_1"/>
    <child link="Bracket__2__1"/>
  </joint>
  <joint name="Rigid85" type="fixed">
    <origin rpy="0 0 0" xyz="0.005927 -0.021103 -0.032088"/>
    <parent link="Servo__1__1"/>
    <child link="Gripper_Slider_1"/>
  </joint>
  <!-- <joint name="Rev8" type="continuous">
  <origin rpy="0 0 0" xyz="-0.000161 0.008051 -0.004438"/>
  <parent link="Servo_Rotator__1__1"/>
  <child link="Left_Servo_Finger_Connector_1"/>
  <axis xyz="0.020917 0.012351 -0.999705"/>
</joint>

<joint name="Rev9" type="continuous">
  <origin rpy="0 0 0" xyz="0.00035 -0.00794 -0.004624"/>
  <parent link="Servo_Rotator__1__1"/>
  <child link="Right_Servo_Finger_Connector_1"/>
  <axis xyz="0.020917 0.012351 -0.999705"/>
</joint>

<joint name="Rev10" type="continuous">
  <origin rpy="0 0 0" xyz="0.019991 -0.027978 -0.001536"/>
  <parent link="Right_Servo_Finger_Connector_1"/>
  <child link="Right_Gripper_Finger_1"/>
  <axis xyz="0.020917 0.012351 -0.999705"/>
</joint>

<joint name="Rev11" type="continuous">
  <origin rpy="0 0 0" xyz="0.000472 0.020867 -0.001965"/>
  <parent link="Left_Servo_Finger_Connector_1"/>
  <child link="Left_Gripper_Finger_1"/>
  <axis xyz="0.020917 0.012351 -0.999705"/>
</joint> -->
  <joint name="Slider1" type="prismatic">
    <origin rpy="0 0 0" xyz="0.051083 -0.022409 -0.0056"/>
    <parent link="Gripper_Slider_1"/>
    <child link="Right_Gripper_Finger_1"/>
    <axis xyz="-0.000474 0.999924 0.012343"/>
    <limit effort="100" lower="0.0" upper=".0150" velocity="100"/>
  </joint>
  <joint name="Slider2" type="prismatic">
    <origin rpy="0 0 0" xyz="0.031053 0.042427 -0.005843"/>
    <parent link="Gripper_Slider_1"/>
    <child link="Left_Gripper_Finger_1"/>
    <axis xyz="-0.000474 0.999924 0.012343"/>
    <limit effort="100" lower="-.0150" upper="0" velocity="100"/>
  </joint>
</robot>
